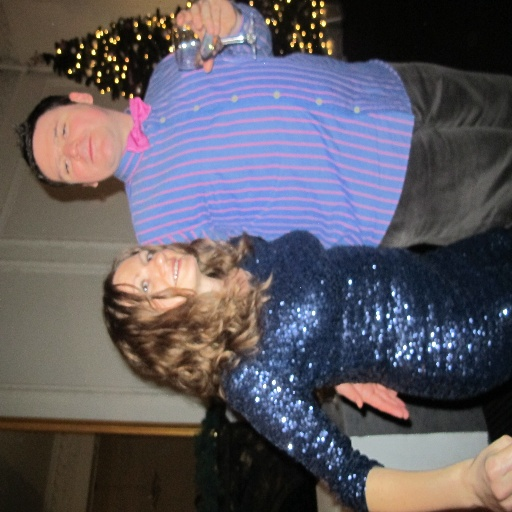hand: (176, 0, 235, 72), (465, 437, 511, 511), (334, 381, 411, 423)
